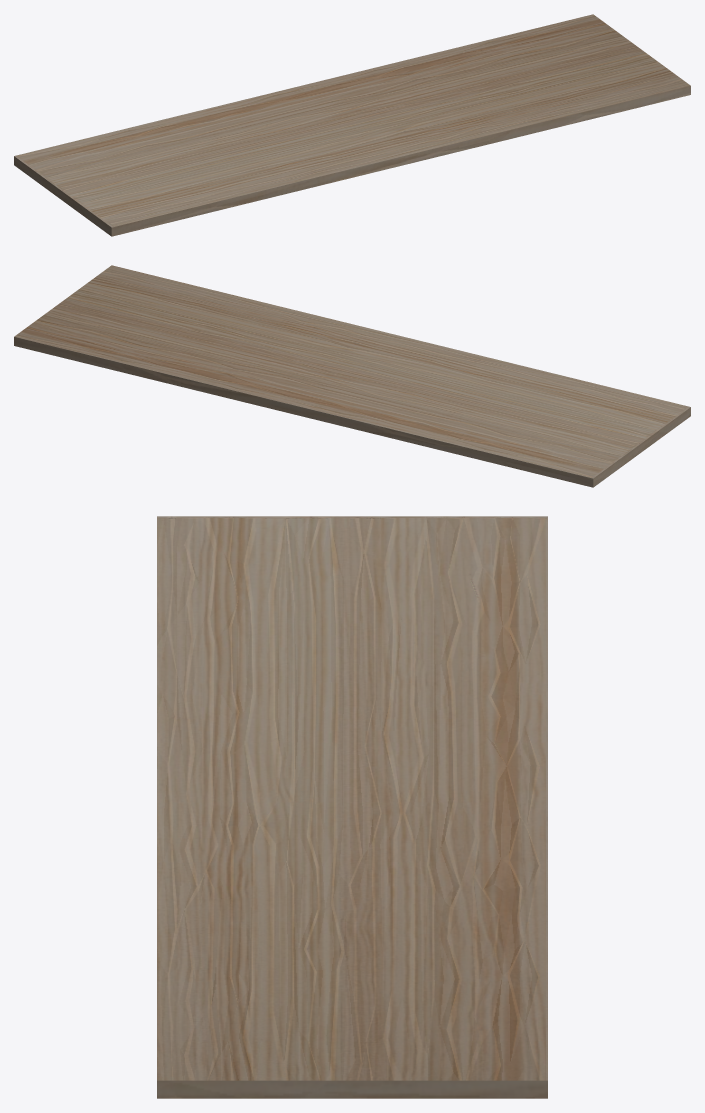
The picture shows the model from 3 angles, top to bottom: view 1: azimuth 30°, elevation 25°; view 2: azimuth 150°, elevation 25°; view 3: azimuth 270°, elevation 25°; orthographic projection. The views are drawn at different scales.
Parts seen in each view (by area): view 1: h2; view 2: h2; view 3: h2.
Part boxes in pixels (<box>): h2: <box>14,14,690,236</box>; h2: <box>14,265,690,487</box>; h2: <box>157,516,547,1098</box>.
Size of the model in its own units: 1061 by 16.83 by 310.
Materials: 1 (1 with a texture image).
